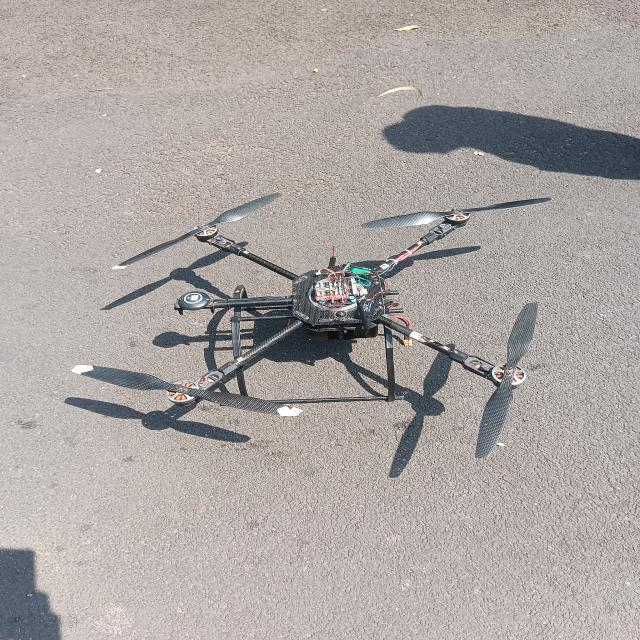drone: (62, 173, 572, 458)
